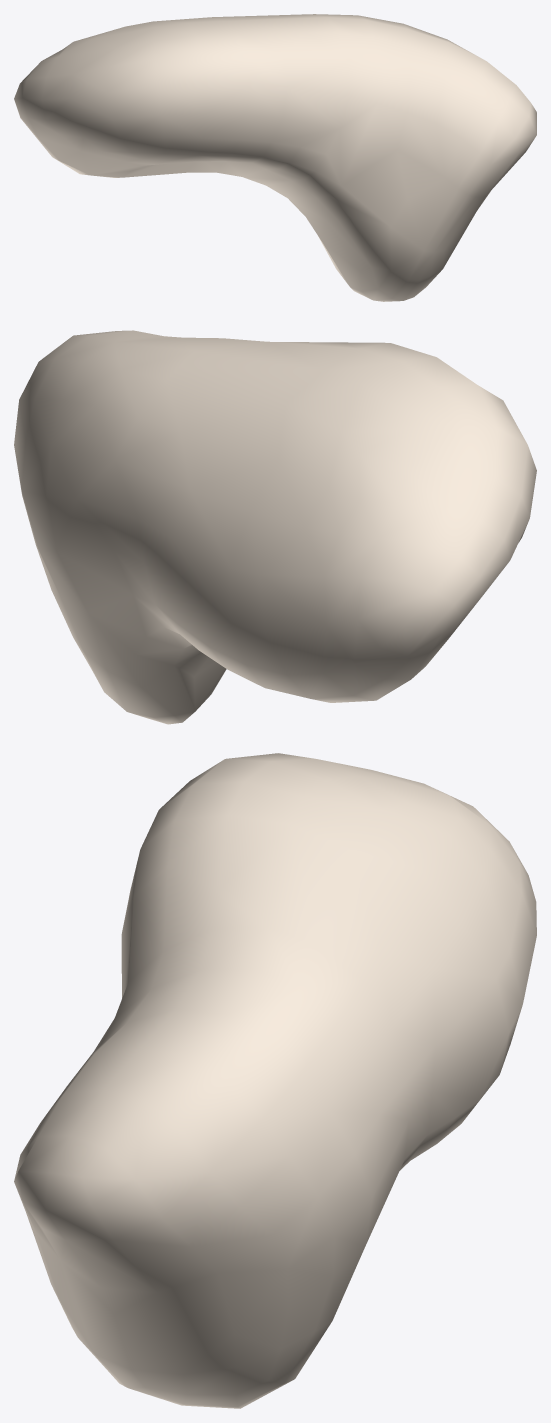
Rendered from left_scaphoid.glb.
The picture shows the model from 3 angles, top to bottom: view 1: azimuth 30°, elevation 25°; view 2: azimuth 150°, elevation 25°; view 3: azimuth 270°, elevation 25°; orthographic projection. The views are drawn at different scales.
Parts seen in each view (by area): view 1: Scaphoid.r; view 2: Scaphoid.r; view 3: Scaphoid.r.
Boxes of the visible parts, x1,y1,x2,y2 form: Scaphoid.r: (14,14,536,301); Scaphoid.r: (14,330,536,724); Scaphoid.r: (14,753,536,1408).
Size of the model in its own units: 0.0249 by 0.0172 by 0.0168.
